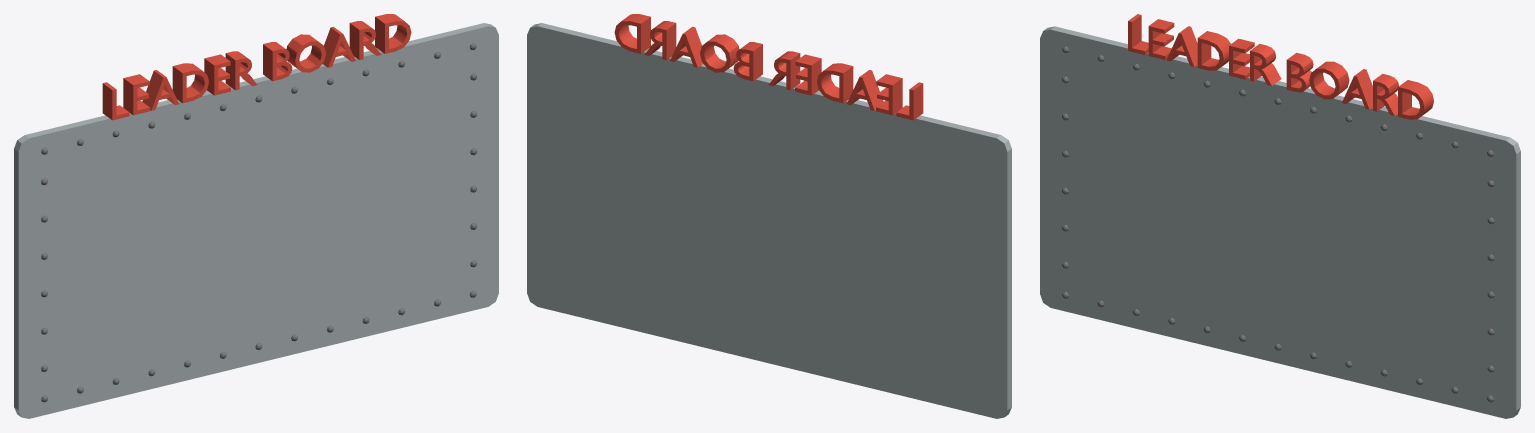
The model's file is Leader_board.fbx.
The picture shows the model from 3 angles, left to right: view 1: azimuth 30°, elevation 25°; view 2: azimuth 150°, elevation 25°; view 3: azimuth 330°, elevation 25°; orthographic projection.
Parts seen in each view (by area): view 1: Cube.001, Text, Sphere; view 2: Cube.001, Text; view 3: Cube.001, Text, Sphere.
Boxes of the visible parts, left/top/right/bottom form: Cube.001: left=14, top=23, right=498, bottom=418; Text: left=102, top=14, right=411, bottom=120; Sphere: left=41, top=43, right=477, bottom=402; Cube.001: left=527, top=23, right=1011, bottom=418; Text: left=614, top=14, right=923, bottom=120; Cube.001: left=1040, top=26, right=1520, bottom=418; Text: left=1128, top=14, right=1433, bottom=119; Sphere: left=1062, top=46, right=1494, bottom=402.
Size of the model in its own units: 442 by 273 by 15.54.
